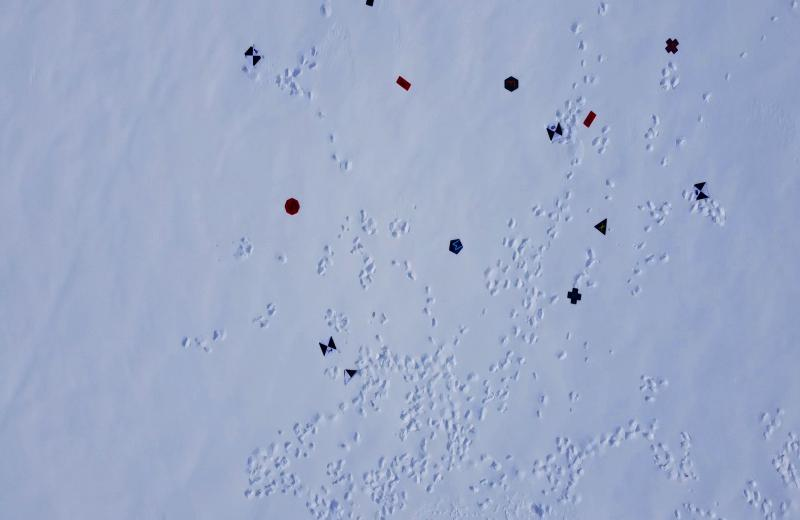Cross: (566, 286, 582, 305), (665, 36, 679, 55)
Hexagon: (503, 75, 518, 93)
Octagon: (283, 196, 301, 217)
Pentagon: (448, 237, 463, 256)
Rectangle: (582, 109, 597, 129), (396, 76, 412, 92)
Triangle: (594, 217, 610, 235)
